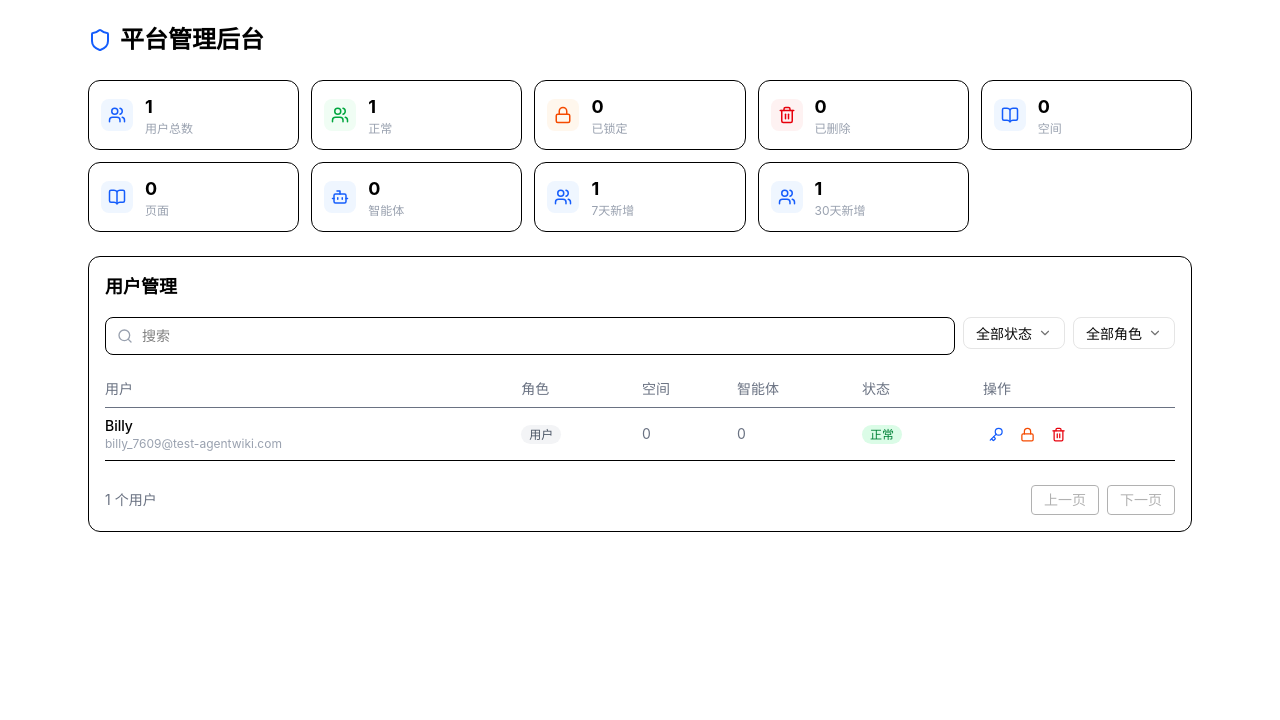
AdminPage password reset › locks the reset dialog to one account and one request until the password arrives
This screenshot has width=1280, height=720.
Step 1. Click the button titled "重置密码" → [996, 434], box [983,420,1010,448]
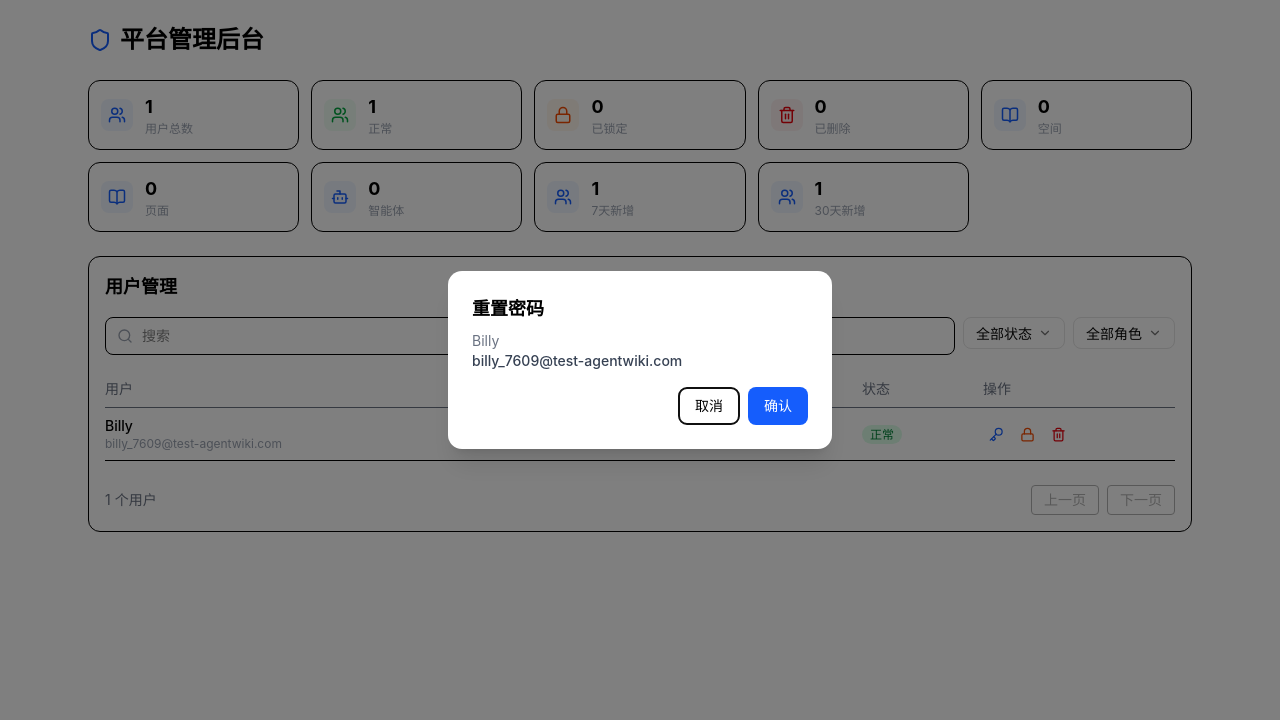
Step 2. Click the button "确认" → [778, 406], box [748,387,808,425]
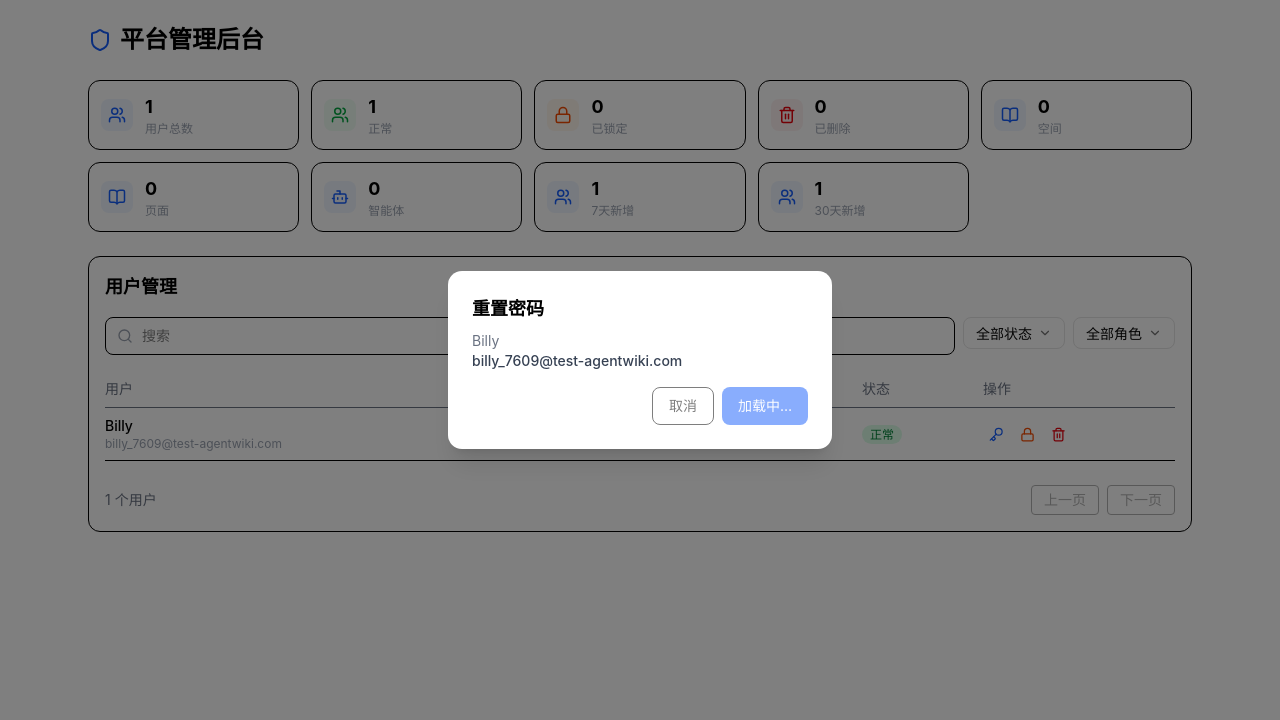
Check: the button "加载中…" is disabled
Check: the button "取消" is disabled, box [652,387,714,425]
Step 3. Click the button "加载中…" → [765, 406], box [722,387,808,425]
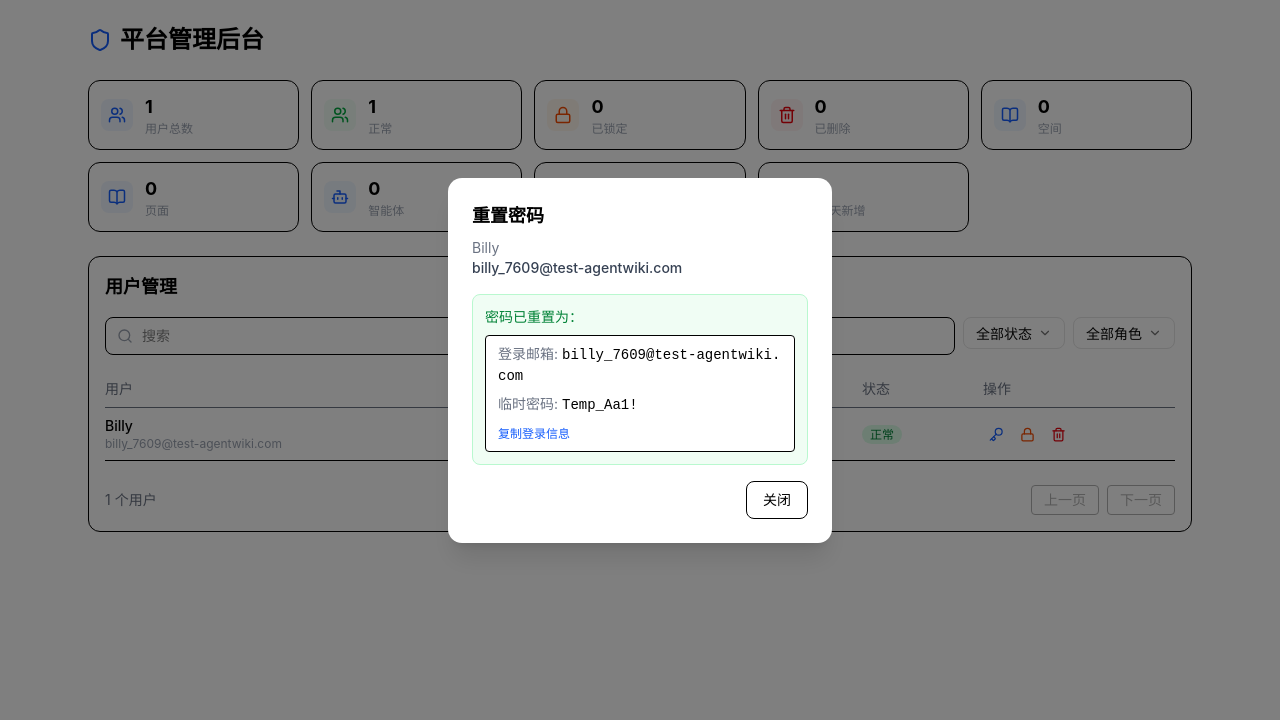
Check: the text "Temp_Aa1!" is shown, box [562,396,638,412]
